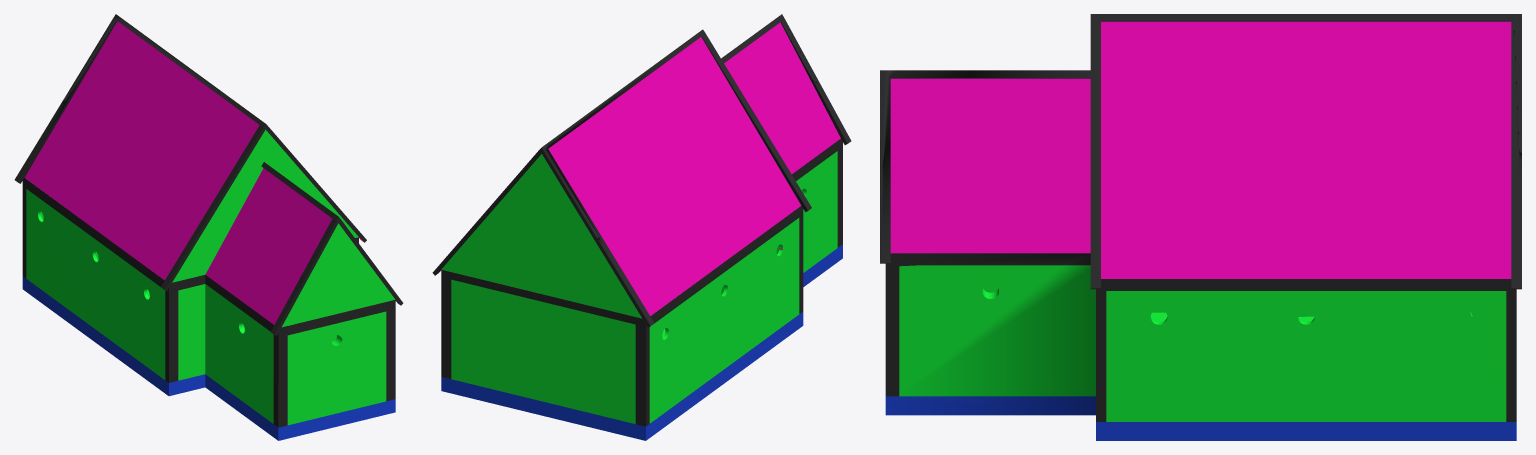
Rendered from Church 1.fbx.
3 views of the same model, side by side, from view 1: azimuth 30°, elevation 25°; view 2: azimuth 150°, elevation 25°; view 3: azimuth 270°, elevation 25° (orthographic). The views are drawn at different scales.
Visible parts, largest first — view 1: Church; view 2: Church; view 3: Church.
Boxes of the visible parts, x1,y1,x2,y2 form: Church: (14, 14, 403, 440); Church: (432, 14, 851, 440); Church: (880, 14, 1521, 440).
Bounding box in the file's own units: 3200 × 3780 × 6102.
